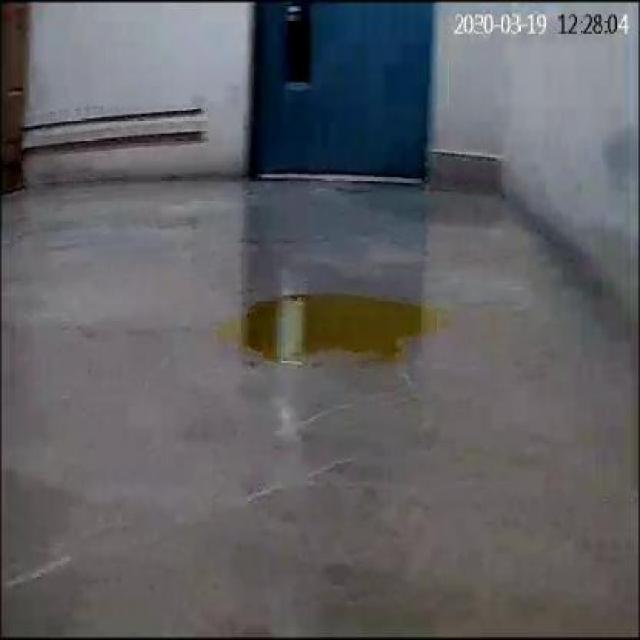spill: (216, 290, 450, 364)
